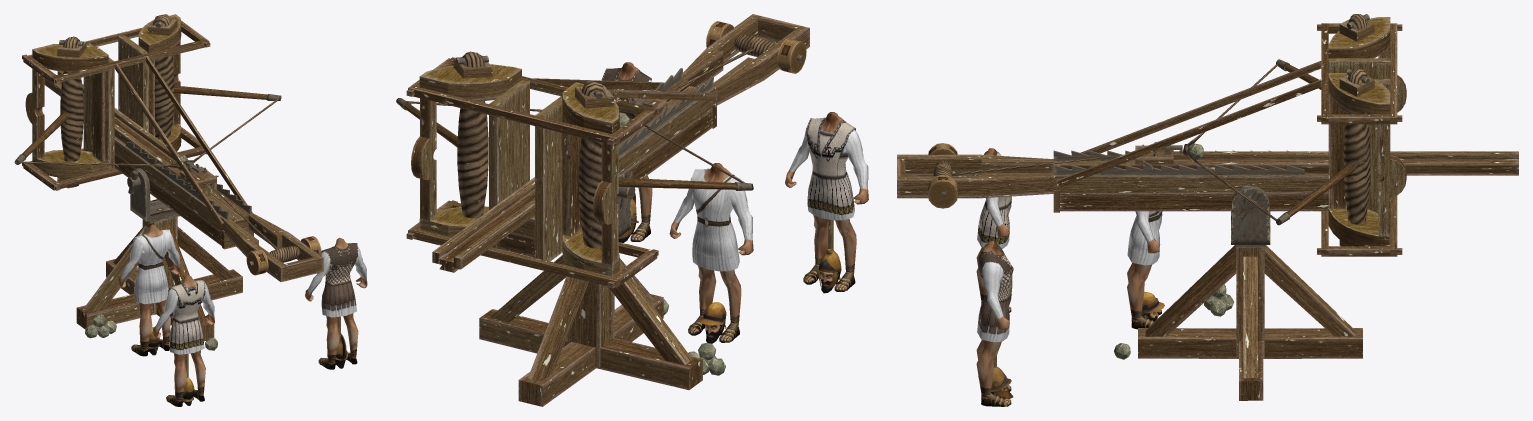
Rendered from catapult.glb.
3 renders of one model, left to right at view 1: azimuth 30°, elevation 25°; view 2: azimuth 150°, elevation 25°; view 3: azimuth 270°, elevation 25°, orthographic. The views are drawn at different scales.
Visible parts, largest first — view 1: catapult_part0, catapult_part5, catapult_part1, catapult_part9, catapult_part15; view 2: catapult_part0, catapult_part5, catapult_part9, catapult_part1, catapult_part15, catapult_part8, catapult_part11; view 3: catapult_part0, catapult_part1, catapult_part9, catapult_part5, catapult_part15.
Part boxes in pixels (x1,y1,x2,y2): catapult_part0: (14,14,323,341); catapult_part5: (152,275,214,406); catapult_part1: (305,237,367,369); catapult_part9: (117,224,179,356); catapult_part15: (85,314,116,338); catapult_part0: (396,14,809,406); catapult_part5: (785,112,868,291); catapult_part9: (669,163,753,342); catapult_part1: (601,62,654,241); catapult_part15: (688,343,725,375); catapult_part8: (818,249,841,288); catapult_part11: (699,302,726,328); catapult_part0: (897,14,1518,400); catapult_part1: (976,240,1013,406); catapult_part9: (1127,211,1162,329); catapult_part5: (976,148,1011,312); catapult_part15: (1204,284,1233,316).
Size of the model in its own units: 1.6 by 1.46 by 2.6.
Materials: 10 (10 with a texture image).
